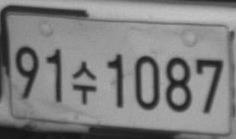0: (135, 55, 160, 110)
1: (105, 52, 131, 108), (43, 48, 69, 103)
7: (195, 59, 224, 113)
8: (165, 56, 192, 113)
9: (14, 45, 39, 100)
수: (72, 60, 98, 105)
